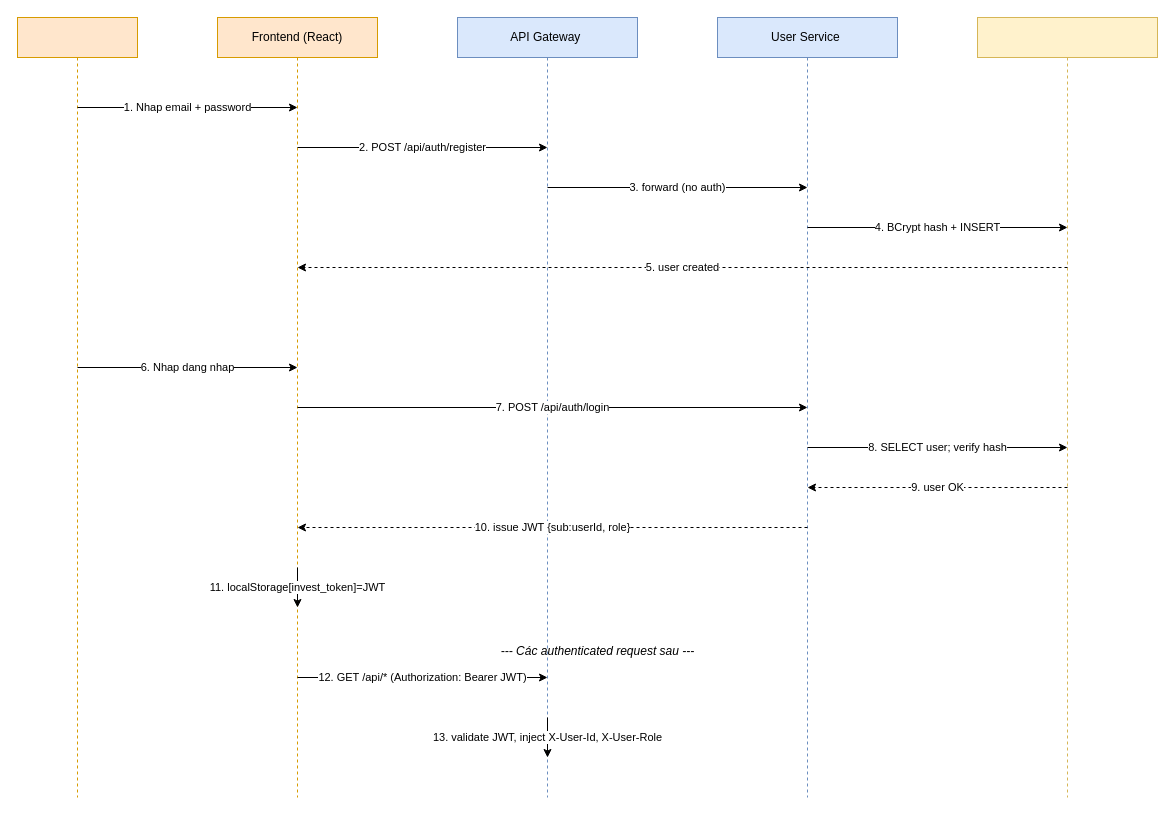
Some shapes in this 1175 by 815 pixel diagram are drawn without their labels. The box of each missing label's shape, as (x1, y1, x2, y2) in pixels:
User: (16, 16, 138, 798)
user_db (Postgres): (976, 16, 1158, 798)
